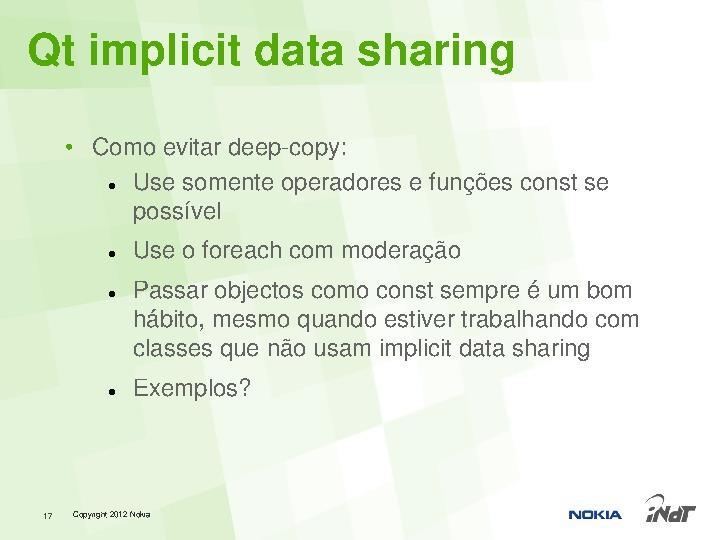paragraph: (56, 128, 673, 422)
title: (25, 25, 530, 95)
